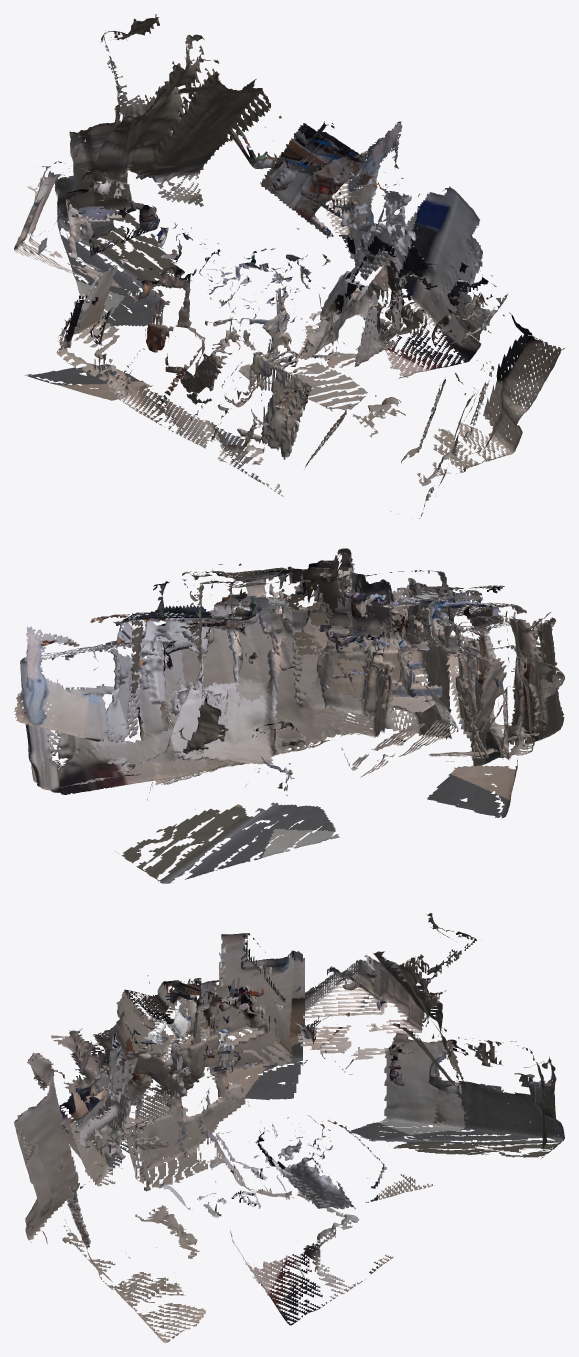
File: candidate_g_tsdf_volumetric.glb
3 renders of one model, top to bottom at view 1: azimuth 30°, elevation 25°; view 2: azimuth 150°, elevation 25°; view 3: azimuth 270°, elevation 25°, orthographic. The views are drawn at different scales.
Visible parts, largest first — view 1: candidate_g_tsdf_volumetric.obj; view 2: candidate_g_tsdf_volumetric.obj; view 3: candidate_g_tsdf_volumetric.obj.
Boxes of the visible parts, <box> form: candidate_g_tsdf_volumetric.obj: <box>14,14,564,518</box>; candidate_g_tsdf_volumetric.obj: <box>14,548,564,883</box>; candidate_g_tsdf_volumetric.obj: <box>14,913,564,1342</box>.
Size of the model in its own units: 3.2 by 2.5 by 3.75.
1 material, 1 textured.
